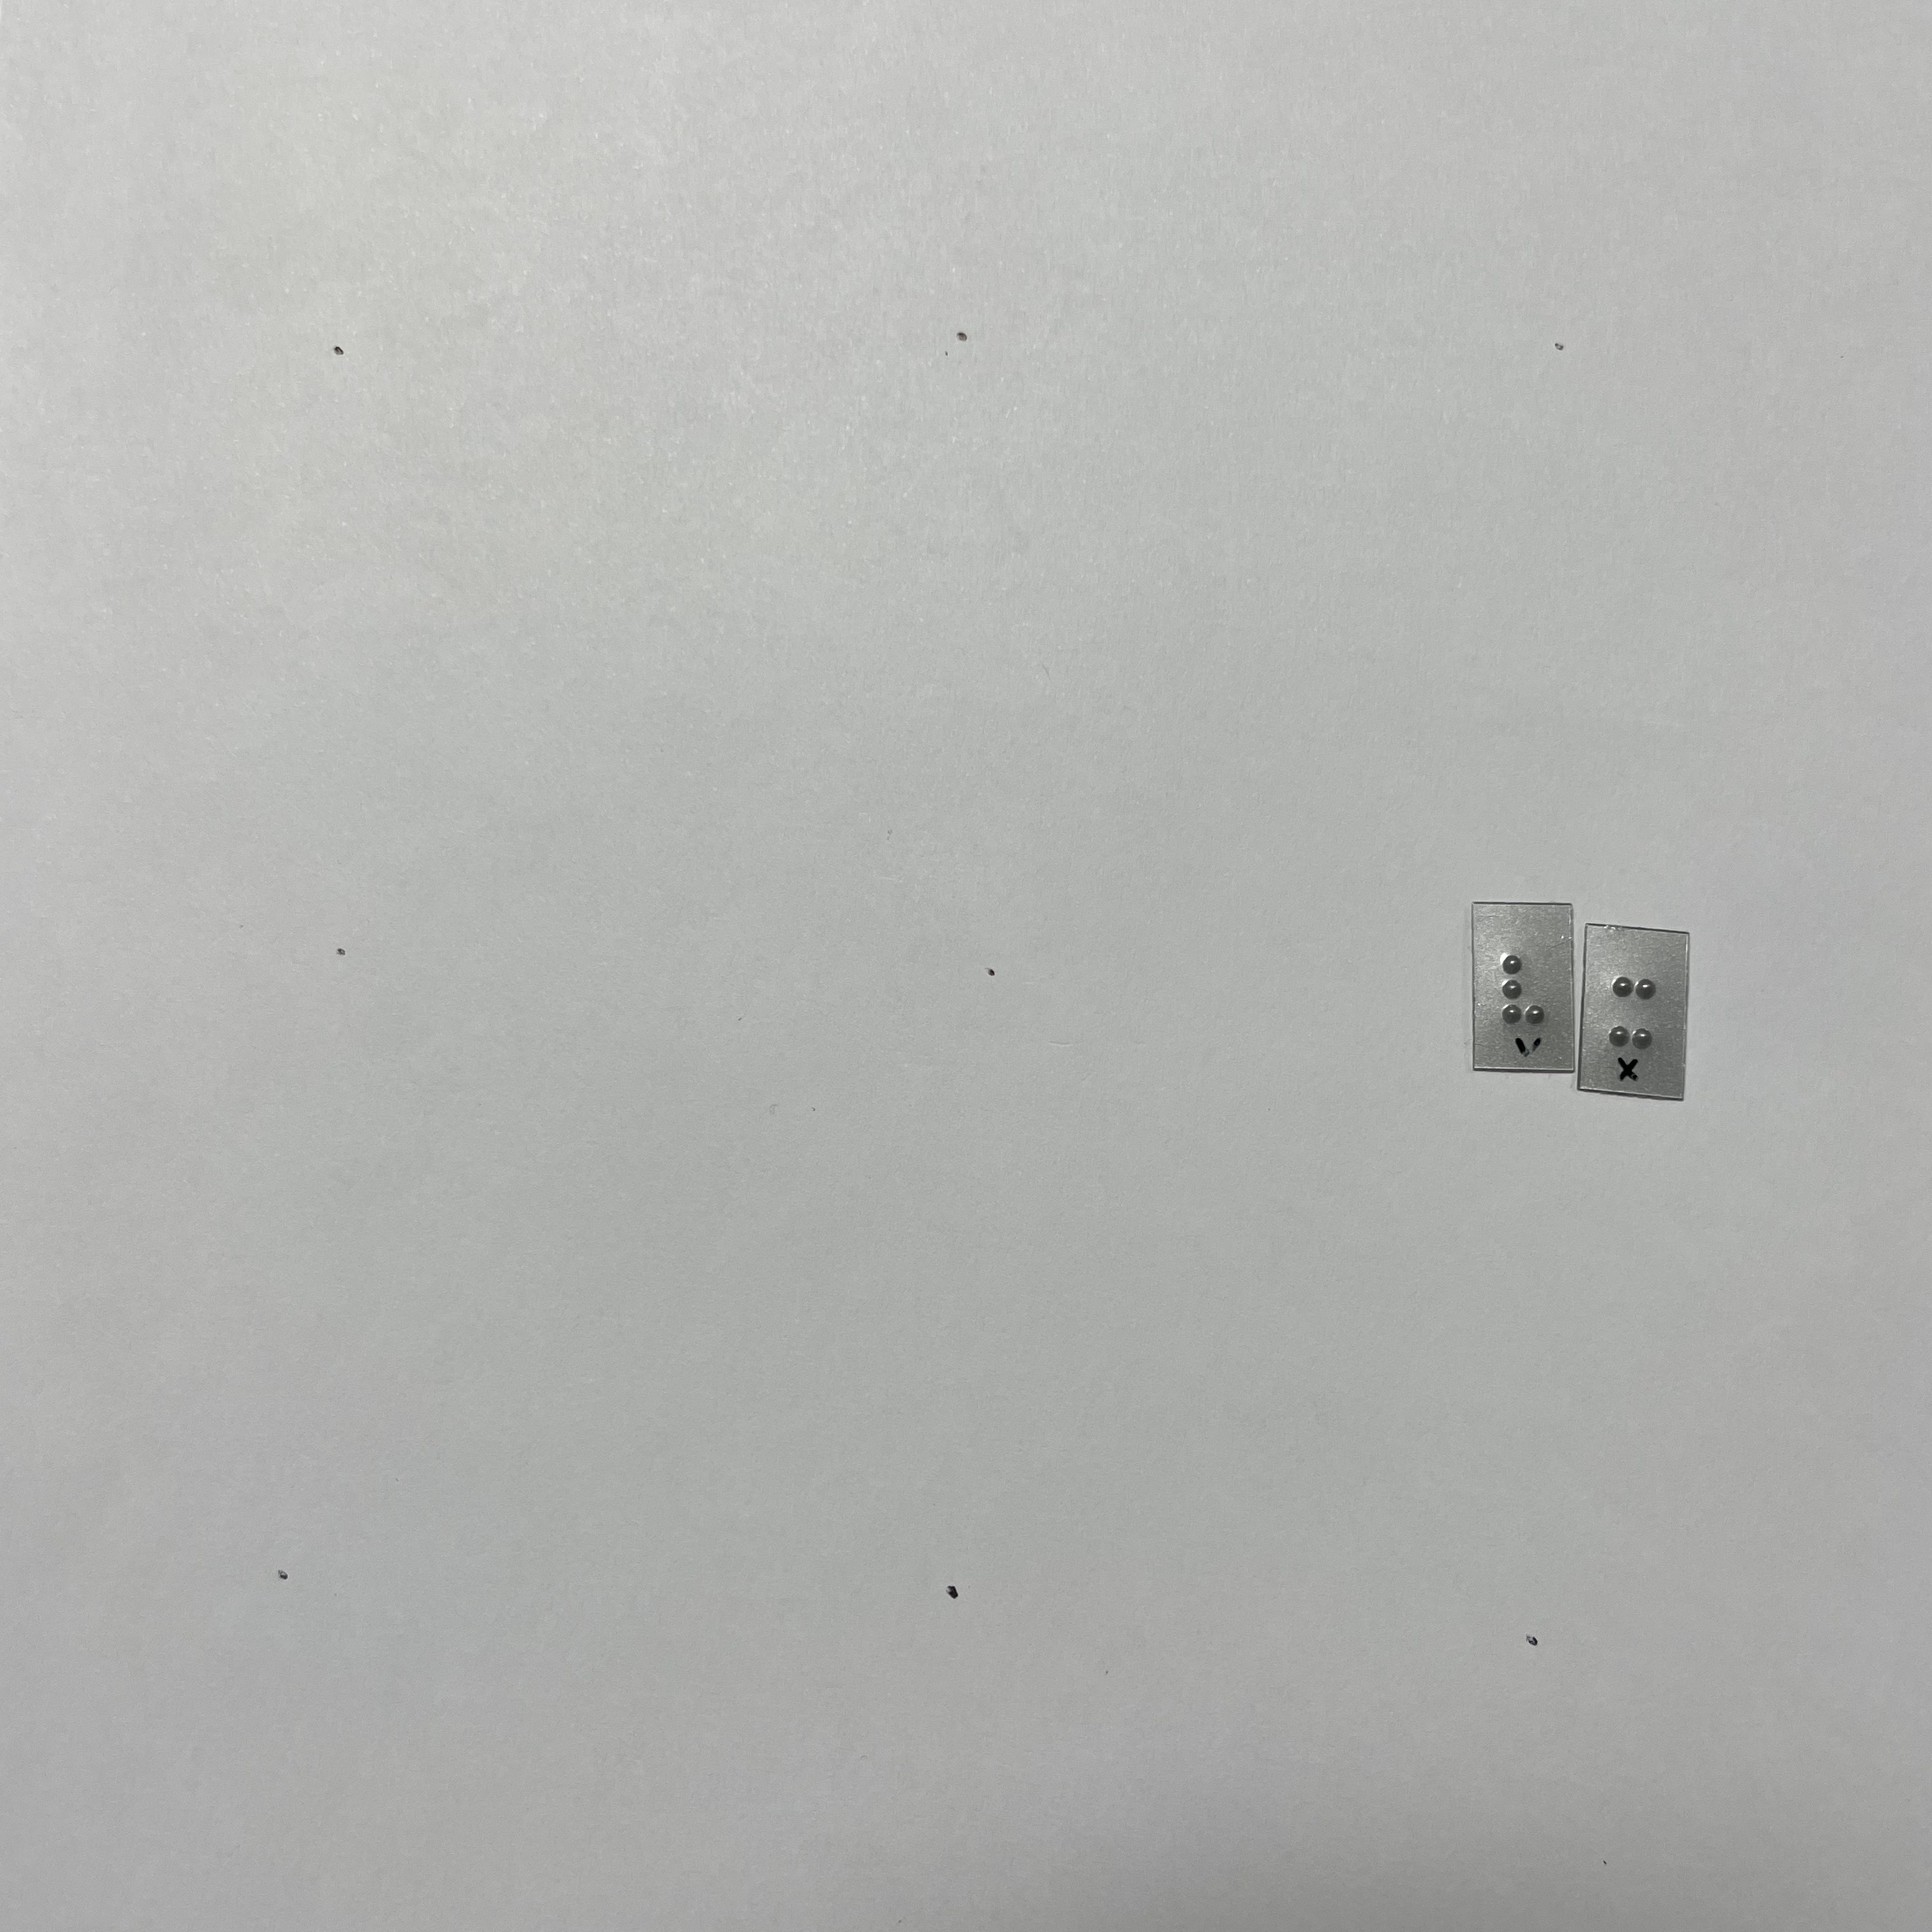v: (1496, 949, 1556, 1038)
x: (1602, 967, 1664, 1059)
